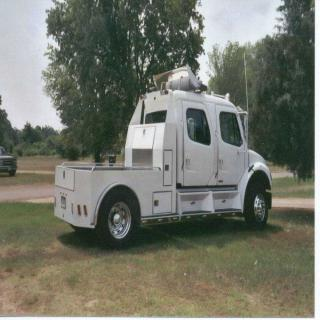Towing_truck: (52, 63, 274, 248)
